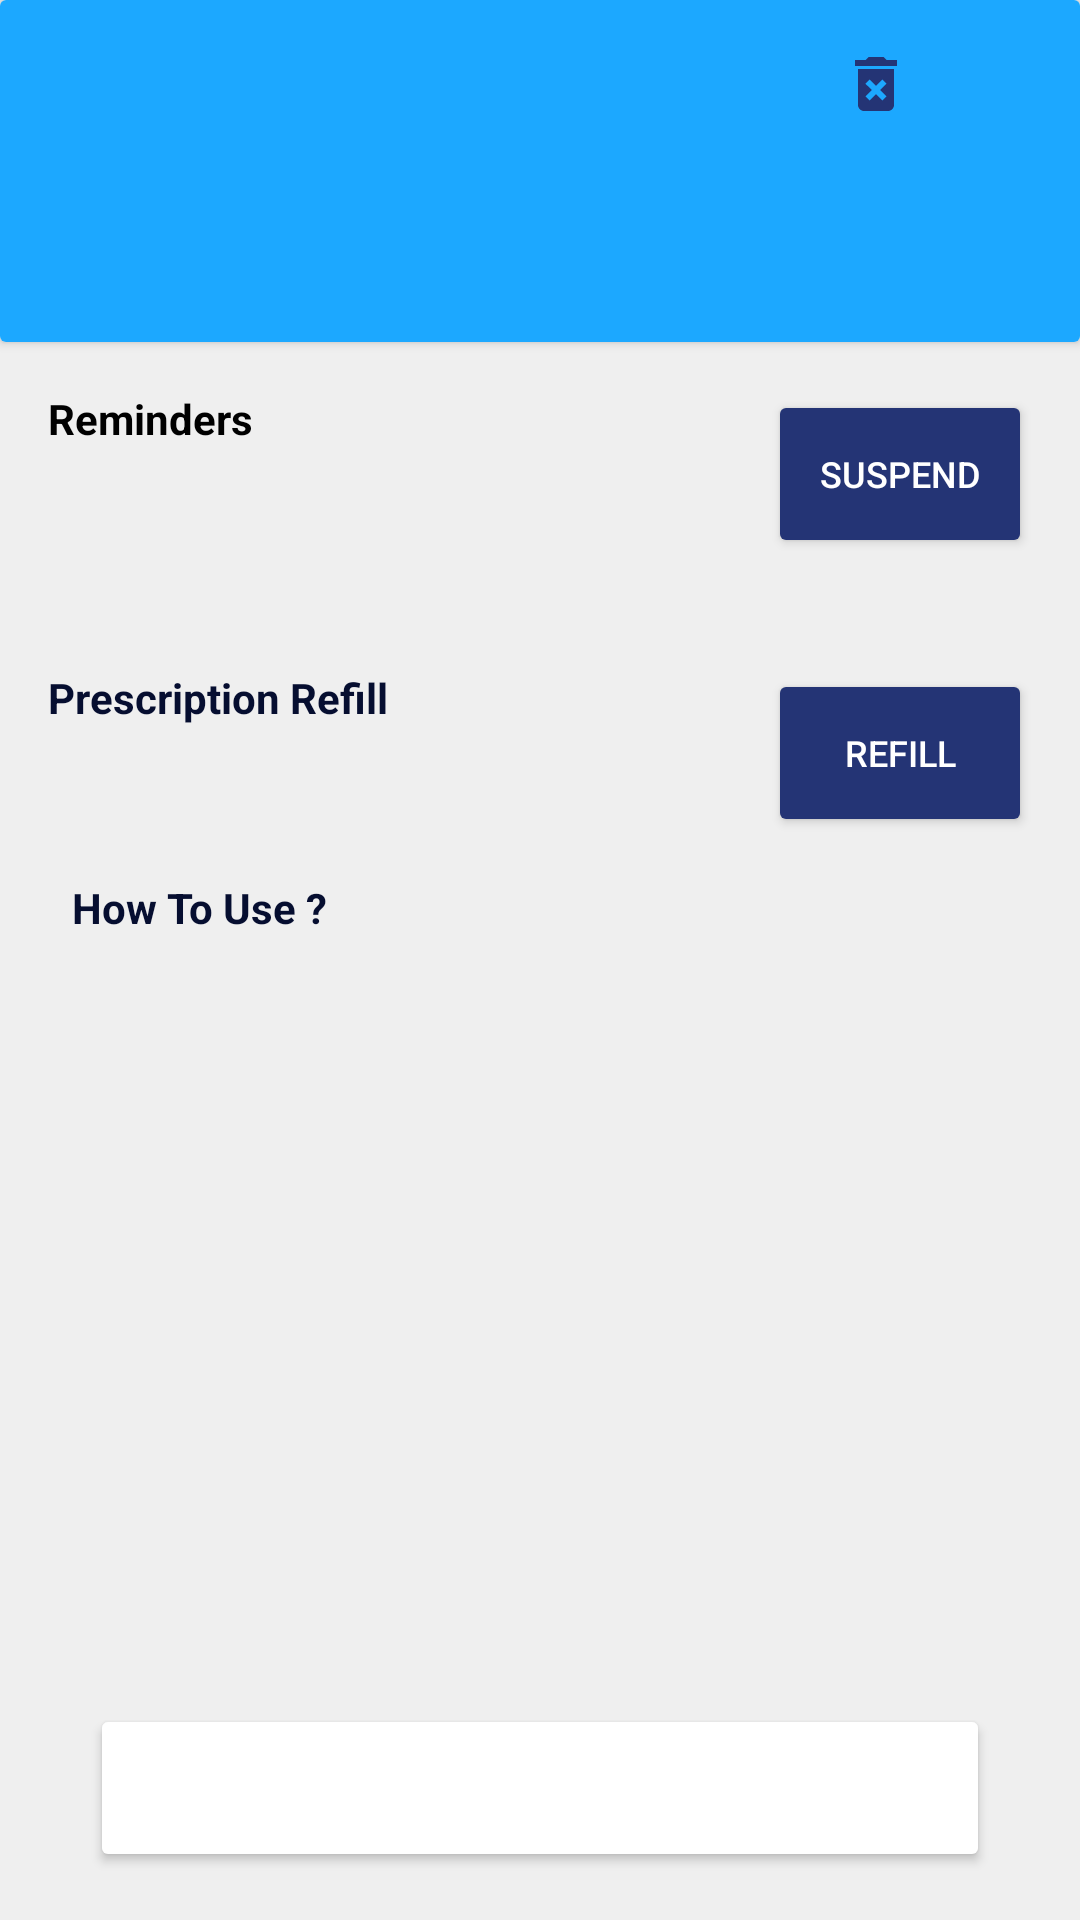

Where to tap for icons on this 1080 x 1920 app screen, as point (x, y):
Delete Photo: point (876, 84)
